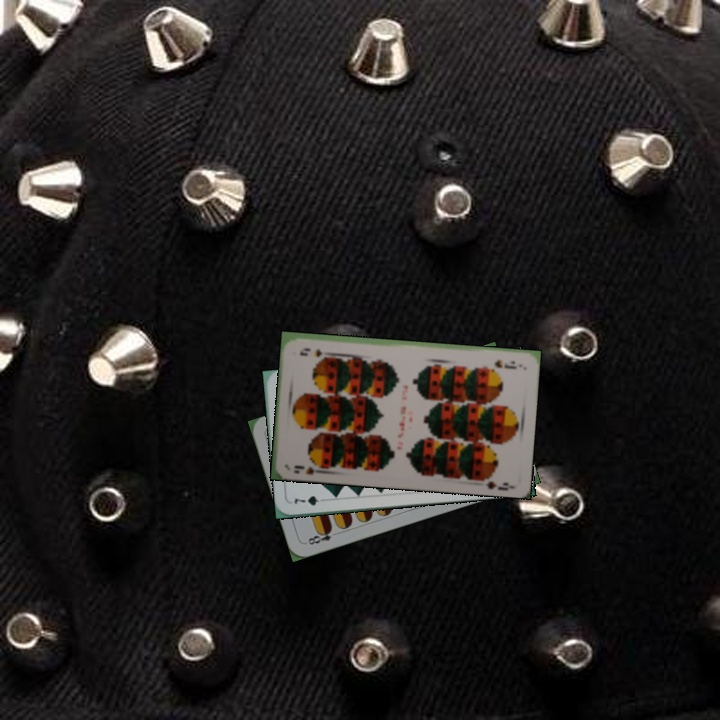E8: (302, 524, 335, 547)
G7: (290, 491, 330, 508)
S9: (290, 461, 327, 477), (490, 355, 517, 370)
